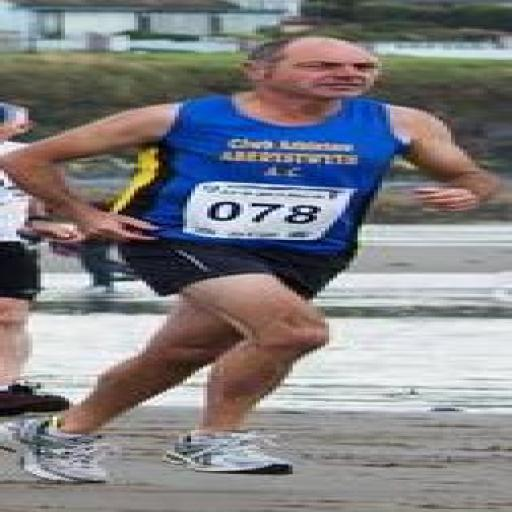person: (0, 37, 499, 481), (0, 172, 77, 416)
